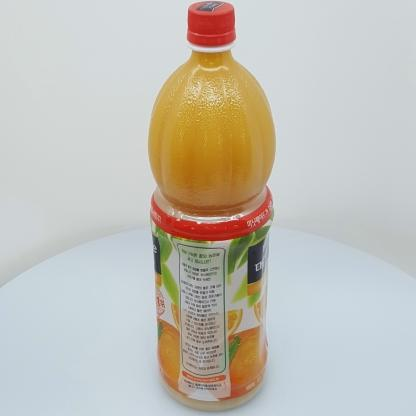------------1-5L: (147, 1, 276, 411)
